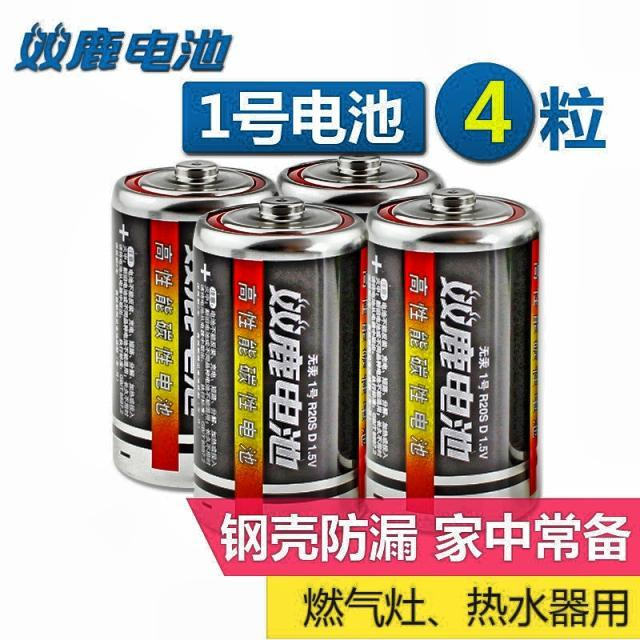battery: (366, 189, 539, 498), (194, 196, 365, 498), (112, 161, 270, 487), (278, 154, 441, 217)
